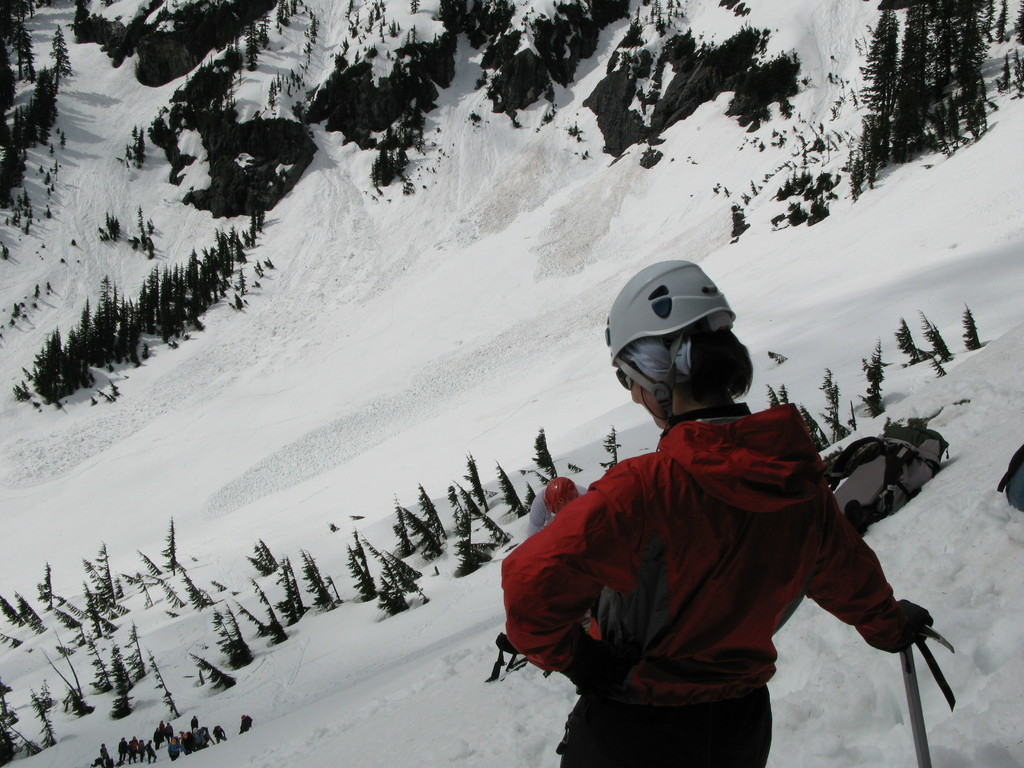Tree: (0, 415, 631, 748), (11, 204, 268, 403), (765, 300, 981, 447), (839, 11, 997, 181)
